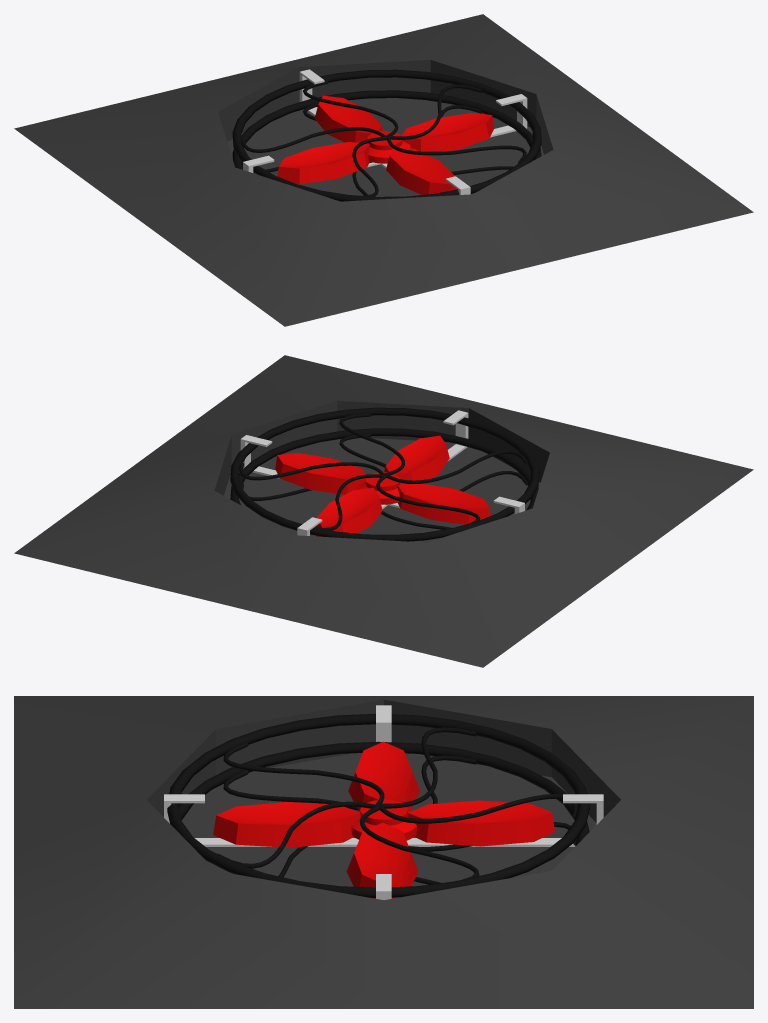
File: Fan.fbx
The picture shows the model from 3 angles, top to bottom: view 1: azimuth 30°, elevation 25°; view 2: azimuth 150°, elevation 25°; view 3: azimuth 270°, elevation 25°; orthographic projection. The views are drawn at different scales.
Visible parts, largest first — view 1: Boundry box, Fan, Cage1, Cage2, Cage3; view 2: Boundry box, Fan, Cage1, Cage2, Cage3; view 3: Boundry box, Fan, Cage1, Cage2, Cage3.
Boxes of the visible parts, <box> form: Boundry box: <box>14,14,753,326</box>; Fan: <box>277,95,493,194</box>; Cage1: <box>232,69,541,201</box>; Cage2: <box>232,90,541,195</box>; Cage3: <box>243,69,527,194</box>; Boundry box: <box>14,355,753,667</box>; Fan: <box>275,435,490,536</box>; Cage1: <box>230,407,539,541</box>; Cage2: <box>230,428,538,529</box>; Cage3: <box>240,410,524,535</box>; Boundry box: <box>14,696,753,1008</box>; Fan: <box>213,741,554,898</box>; Cage1: <box>167,713,589,897</box>; Cage2: <box>178,741,589,884</box>; Cage3: <box>164,705,603,899</box>.
Size of the model in its own units: 101 by 8.39 by 101.
